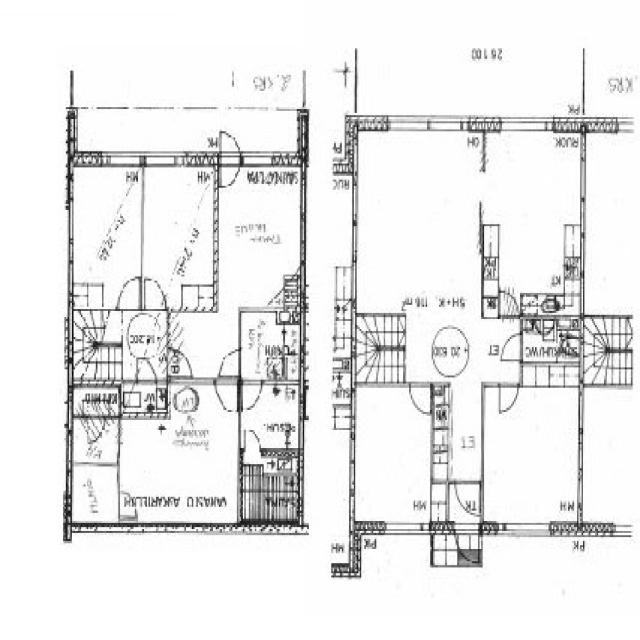door: (214, 346, 241, 414), (218, 127, 242, 183), (451, 478, 483, 520), (116, 274, 142, 311), (140, 276, 166, 310), (454, 524, 481, 555), (409, 381, 433, 415), (500, 330, 524, 363), (497, 382, 520, 415), (240, 378, 262, 410), (134, 356, 158, 384), (218, 159, 240, 188), (241, 426, 262, 454)
window: (404, 114, 471, 134), (498, 518, 553, 541), (499, 114, 554, 136), (385, 112, 429, 136), (574, 415, 587, 486), (576, 153, 589, 214), (382, 518, 426, 536), (144, 151, 188, 169), (64, 196, 77, 249), (610, 518, 638, 542), (103, 151, 142, 168), (180, 372, 218, 387), (242, 150, 276, 166), (614, 117, 637, 140)
zone: (353, 125, 584, 389), (118, 383, 241, 527), (480, 367, 583, 528), (216, 164, 303, 306), (352, 382, 435, 526), (140, 163, 218, 307), (70, 162, 144, 308), (239, 448, 301, 525), (239, 380, 302, 453), (239, 308, 298, 380), (68, 462, 120, 526), (71, 308, 122, 371), (124, 308, 168, 375), (70, 414, 120, 464), (520, 317, 573, 363), (121, 381, 169, 420), (70, 382, 121, 416), (335, 261, 353, 341)
